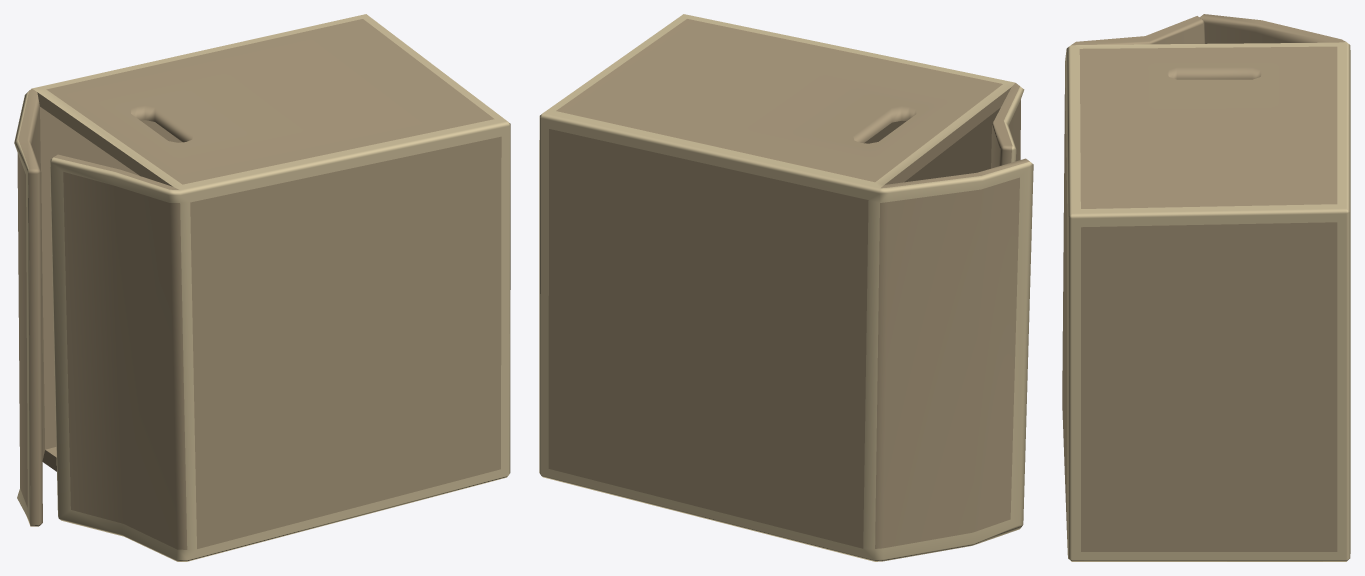
The model's file is BoxD.fbx.
3 renders of one model, left to right at view 1: azimuth 30°, elevation 25°; view 2: azimuth 150°, elevation 25°; view 3: azimuth 270°, elevation 25°, orthographic. The views are drawn at different scales.
Parts seen in each view (by area): view 1: BoxD; view 2: BoxD; view 3: BoxD.
Boxes of the visible parts, x1,y1,x2,y2 form: BoxD: (14,14,510,561); BoxD: (539,14,1033,561); BoxD: (1062,14,1350,561).
Size of the model in its own units: 281 by 240 by 172.
